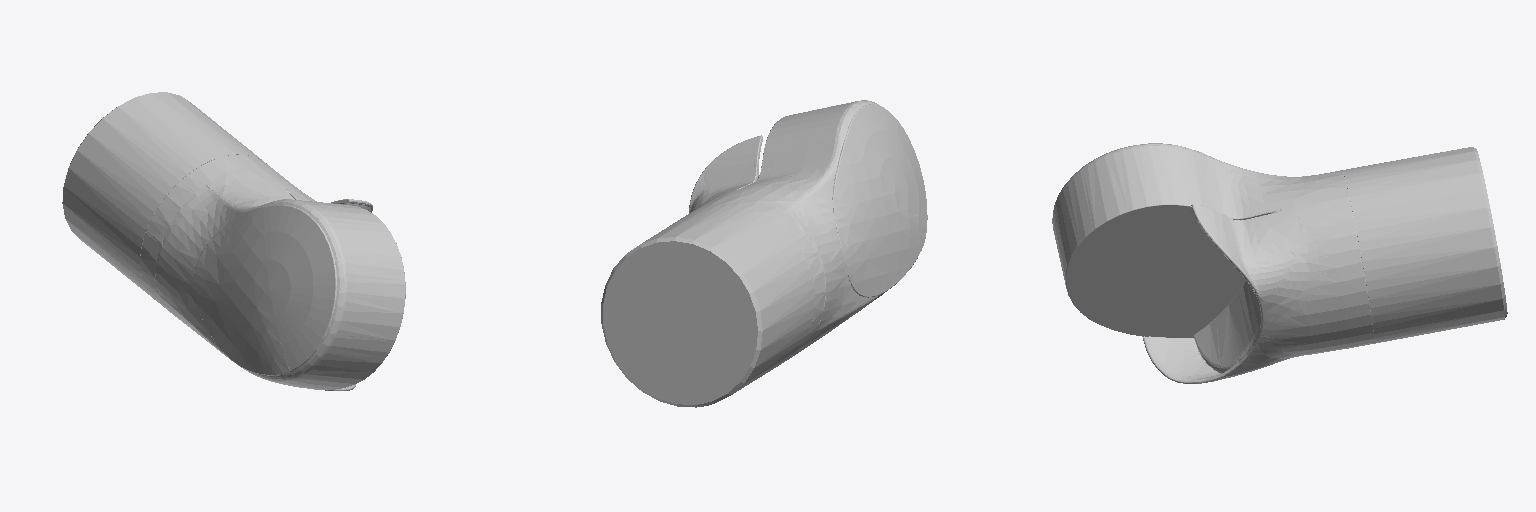
Rendered from arm_4.obj.
3 views of the same model, side by side, from view 1: azimuth 30°, elevation 25°; view 2: azimuth 150°, elevation 25°; view 3: azimuth 270°, elevation 25° (orthographic).
Visible parts, largest first — view 1: arm_4; view 2: arm_4; view 3: arm_4.
Part boxes in pixels (x1,y1,x2,y2): arm_4: (62, 92, 405, 390); arm_4: (601, 100, 927, 407); arm_4: (1052, 143, 1507, 383).
Size of the model in its own units: 0.1224 by 0.1297 by 0.2578.